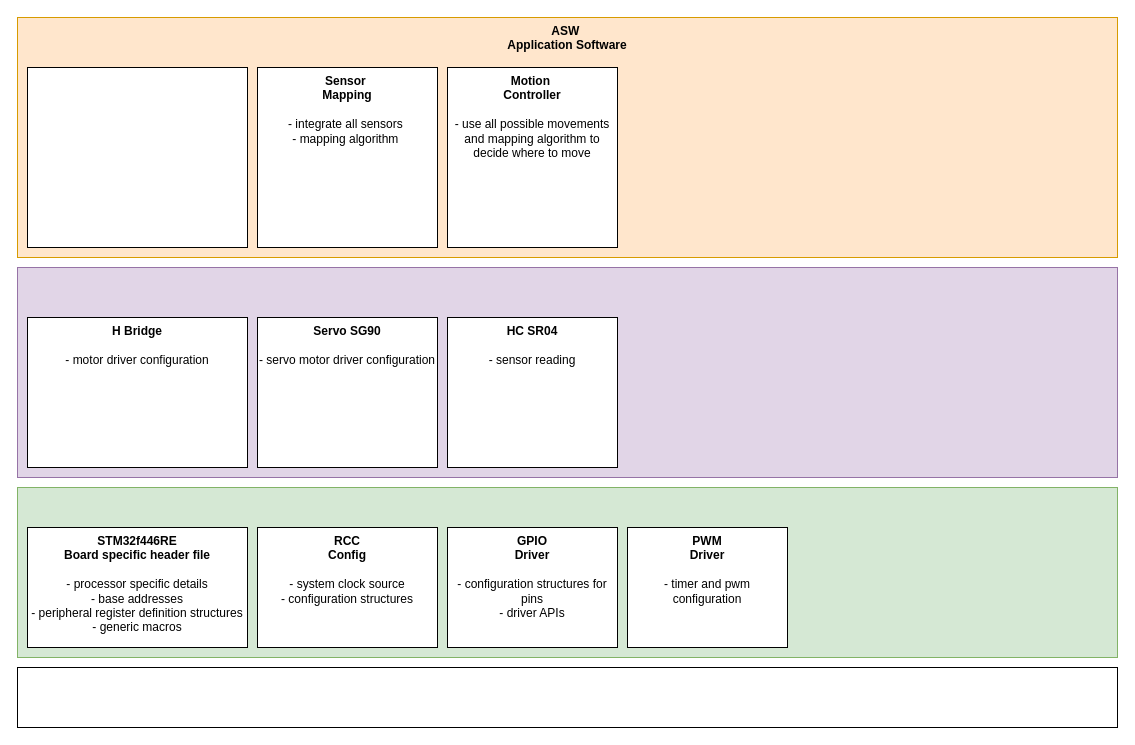
This 1135x745 diagram has some shape labels left out. Each missing label, with the box of its shape:
BSW Basic Software: (16, 266, 1118, 478)
Driving APIs - possible movements and speeds: (26, 66, 248, 248)
DRV Drivers Layer: (16, 486, 1118, 658)
µ Microcontroller: (16, 666, 1118, 728)
